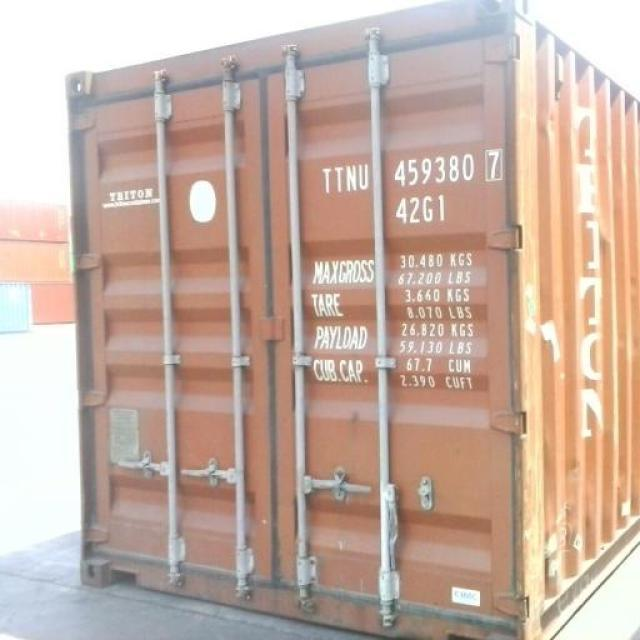ISO: (391, 196, 449, 224)
container_number: (323, 154, 499, 190)
